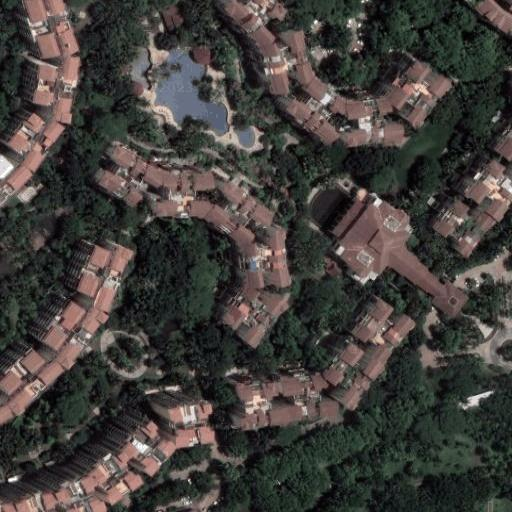building: (92, 139, 285, 283), (250, 27, 443, 146), (325, 183, 464, 315), (0, 409, 153, 512), (312, 288, 406, 403), (415, 145, 512, 255), (221, 368, 327, 423), (29, 289, 95, 359), (223, 285, 288, 348), (64, 232, 120, 300), (18, 49, 66, 115), (211, 0, 274, 41), (150, 390, 198, 436), (487, 114, 512, 160), (186, 41, 210, 67), (0, 156, 16, 183)
